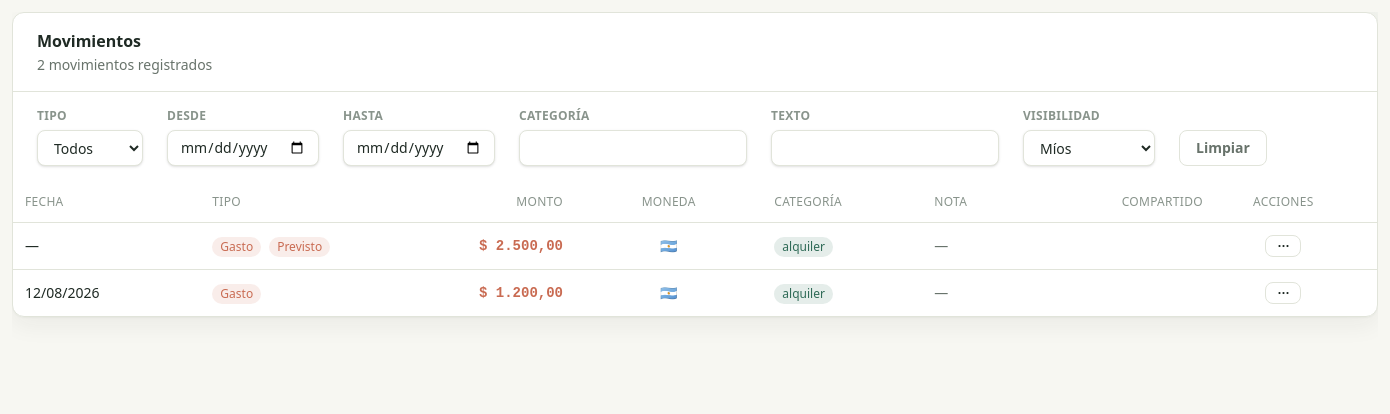
Test: MovementList › shows a Spanish error and keeps the row when mark-paid returns 409
Expected: the table is shown, [13,182,1377,316]
Click the button named "abrir acciones": coordinates (1283, 246) [1265,235,1301,257]
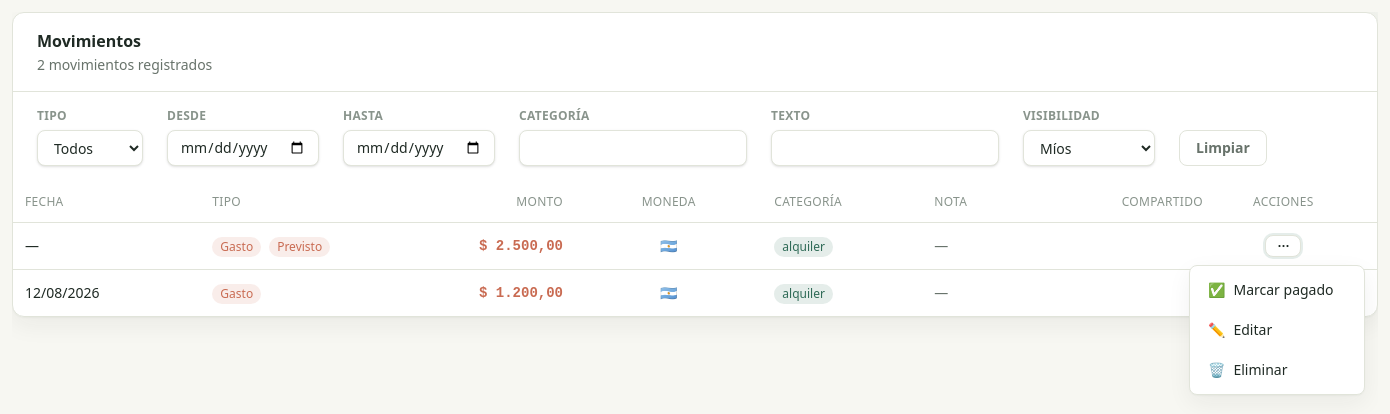
Click the button "✅ Marcar pagado": coordinates (1277, 290) [1196,272,1358,308]
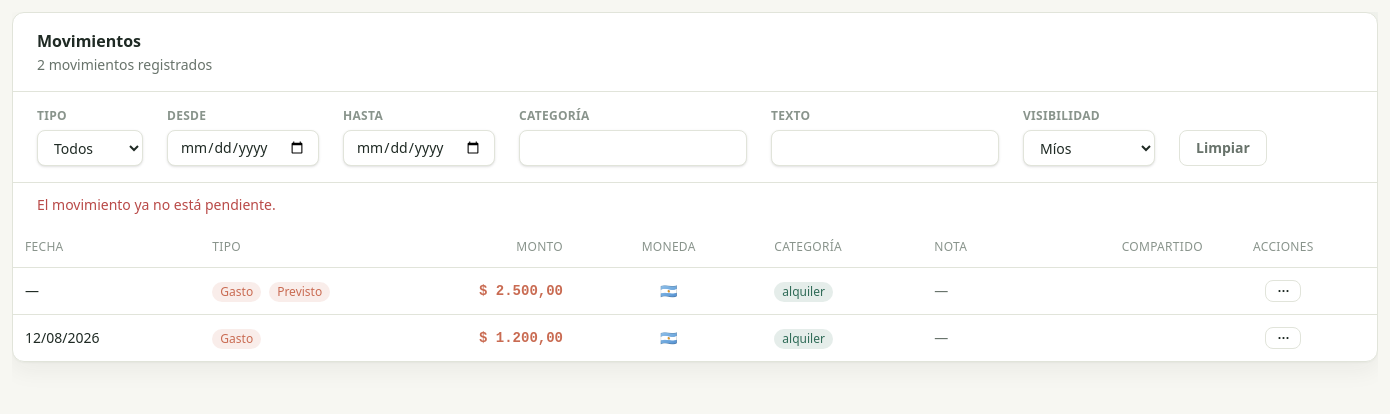
Expected: the text "Previsto" is shown, [269,282,330,302]
Now the message reads "El movimiento ya no está pendiente.", box [37,195,276,214]
